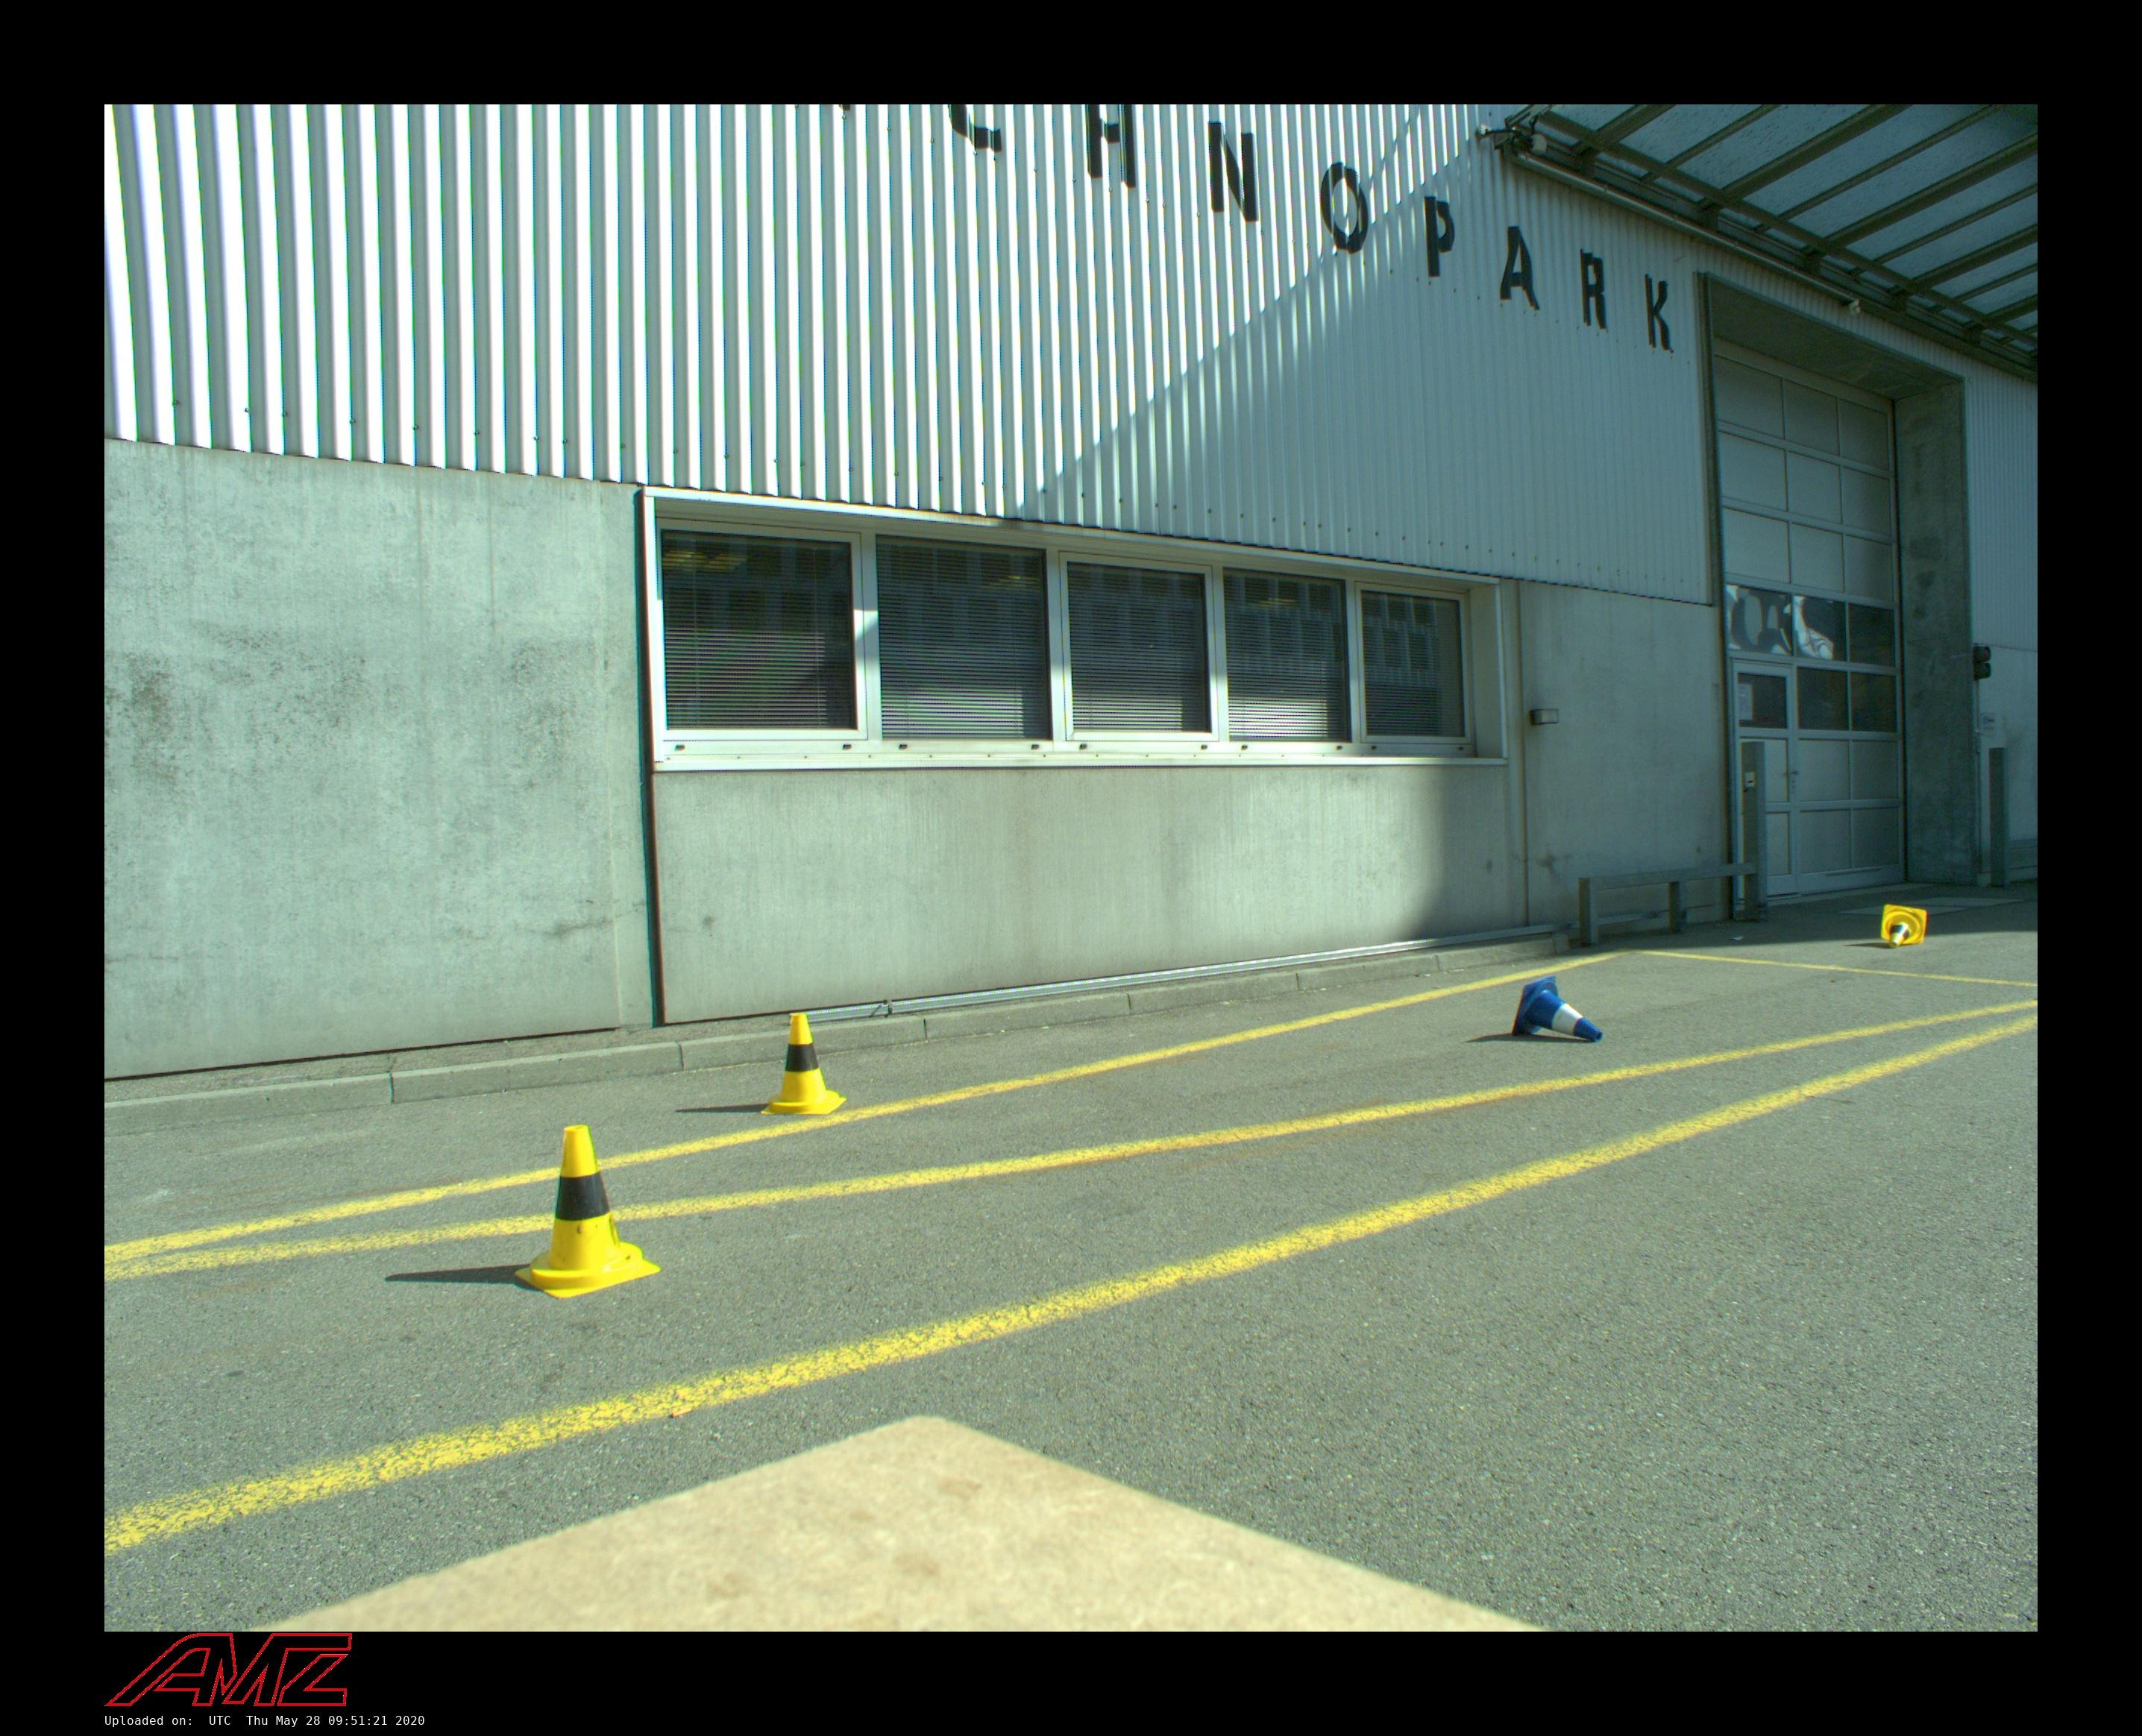blue_cone: (1511, 975, 1604, 1043)
yellow_cone: (515, 1125, 660, 1298), (760, 1014, 847, 1115), (1880, 905, 1927, 949)
